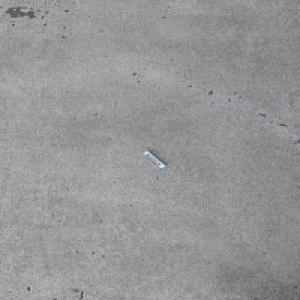ClampPart: (140, 150, 166, 169)
